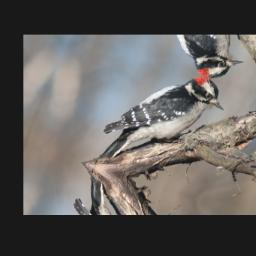Woodpecker: (91, 56, 237, 190)
